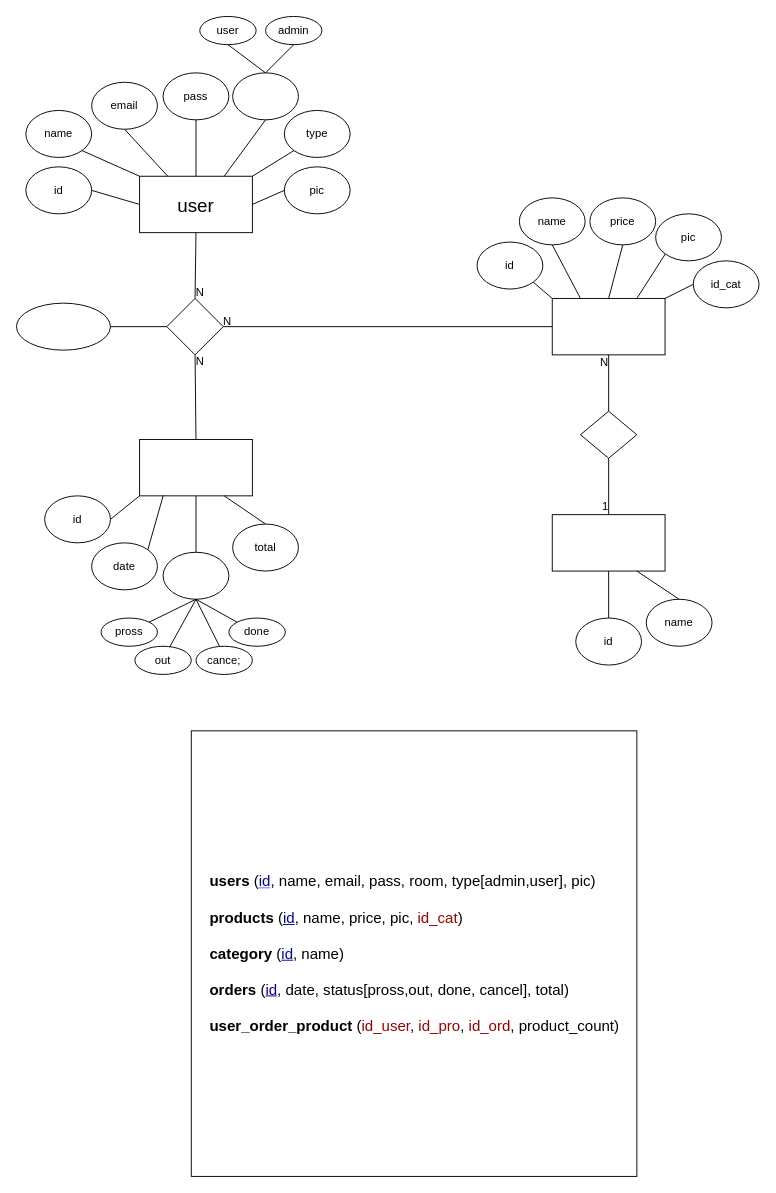
The diagram is 776 pixels wide and 1193 high, and some of its shapes have lost their labels. The box of each missing label's shape, as (x1, y1, x2, y2) in pixels:
category: (551, 514, 665, 571)
orders: (139, 439, 252, 496)
product: (551, 298, 665, 355)
product_count: (16, 302, 110, 350)
room: (232, 72, 298, 120)
status: (162, 551, 229, 599)
